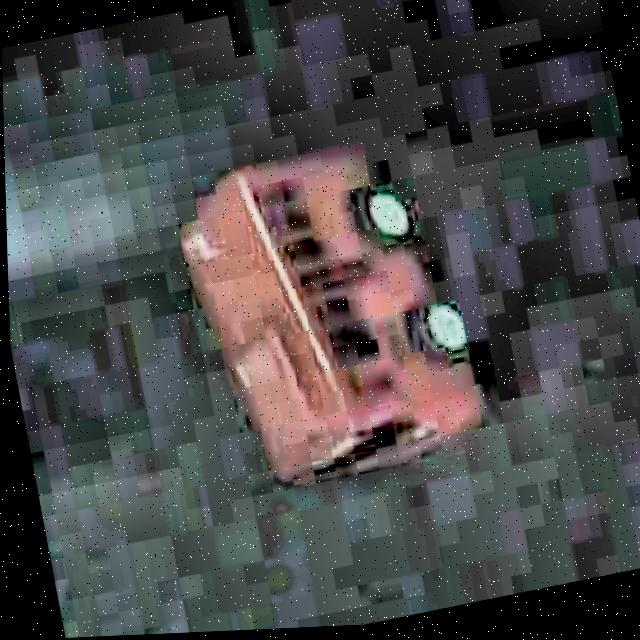bus: (155, 115, 515, 513)
